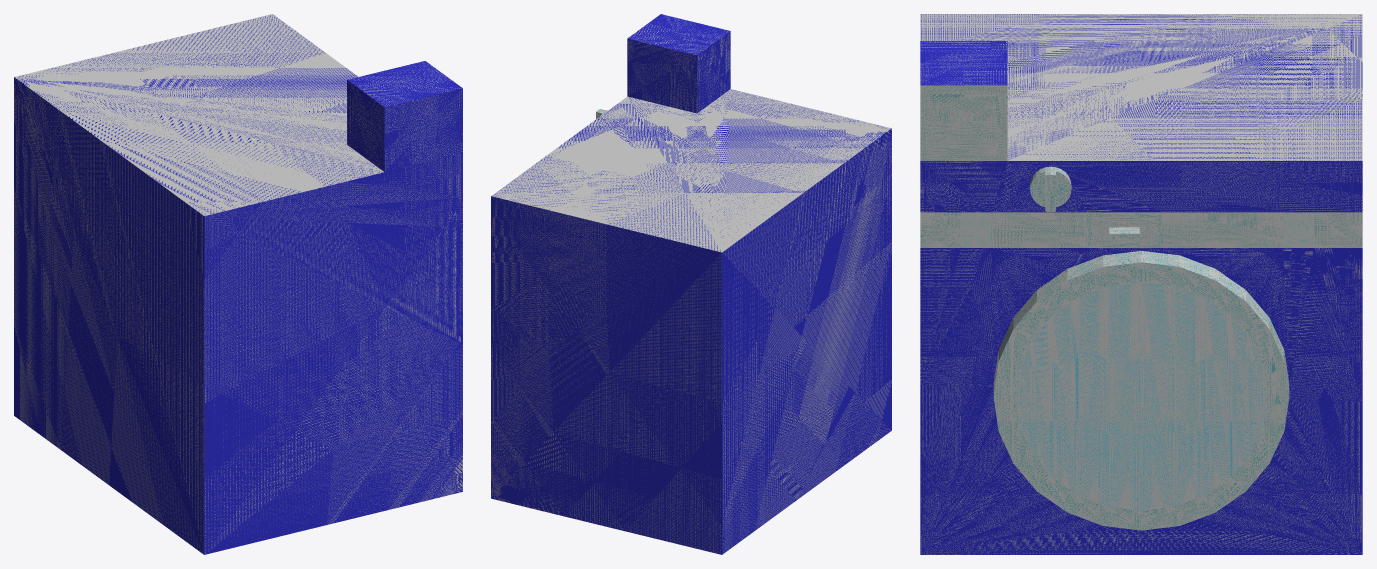
3 views of the same model, side by side, from view 1: azimuth 30°, elevation 25°; view 2: azimuth 150°, elevation 25°; view 3: azimuth 270°, elevation 25° (orthographic). The views are drawn at different scales.
Visible parts, largest first — view 1: mesh1_mesh1-geometry; view 2: mesh1_mesh1-geometry; view 3: mesh1_mesh1-geometry.
Boxes of the visible parts, x1,y1,x2,y2 form: mesh1_mesh1-geometry: (14,14,462,554); mesh1_mesh1-geometry: (491,14,891,554); mesh1_mesh1-geometry: (920,14,1362,554).
Bounding box in the file's own units: 0.4819 × 0.6664 × 0.5689.
